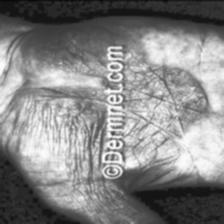Non-Cancerous Skin Condition: (124, 54, 202, 162), (46, 52, 105, 136)
